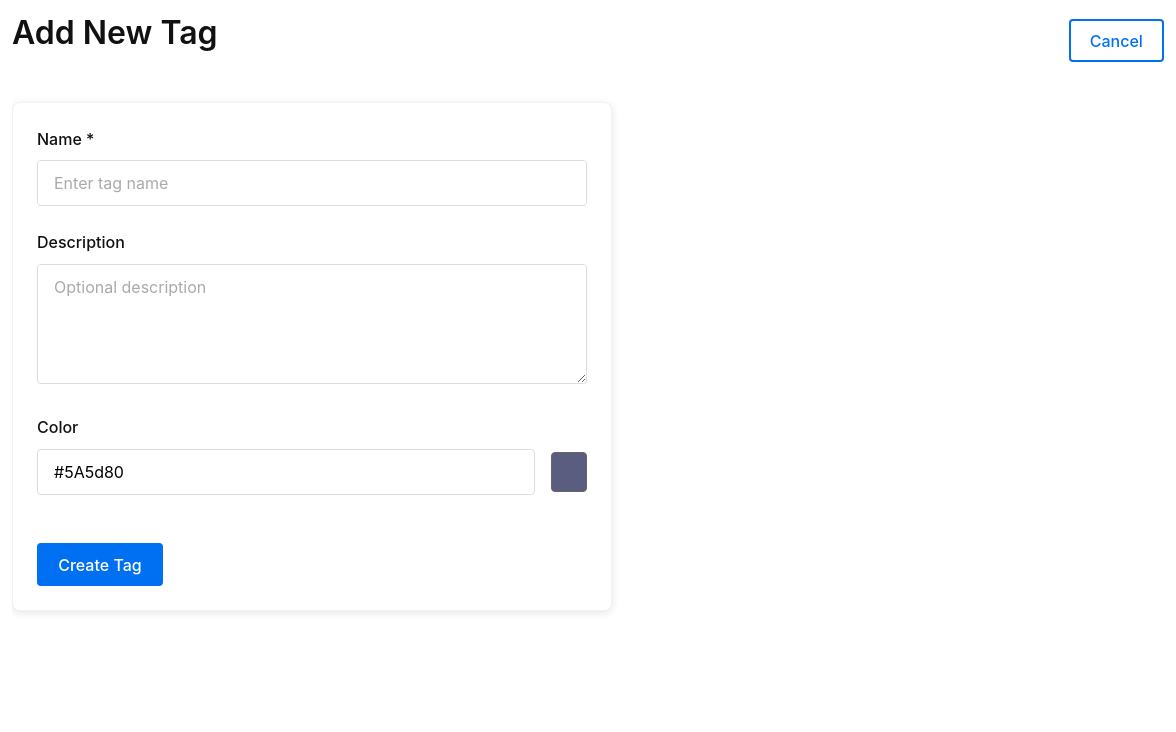
Test: TagEditorPage › Validation › shows error for invalid hex color
Type "invalid-color" into the field with placeholder "#5A5d80" at (286,472), box [37,449,535,495]
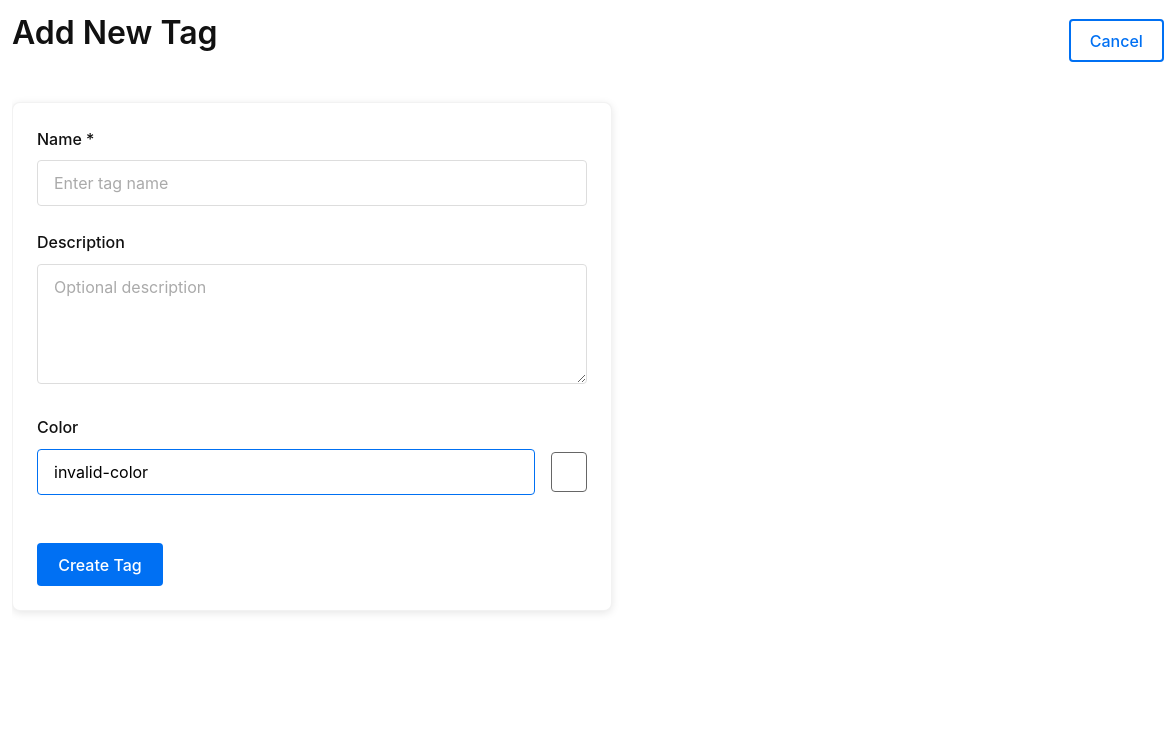
Click the button "Create Tag" at (100,565), box [37,543,163,586]
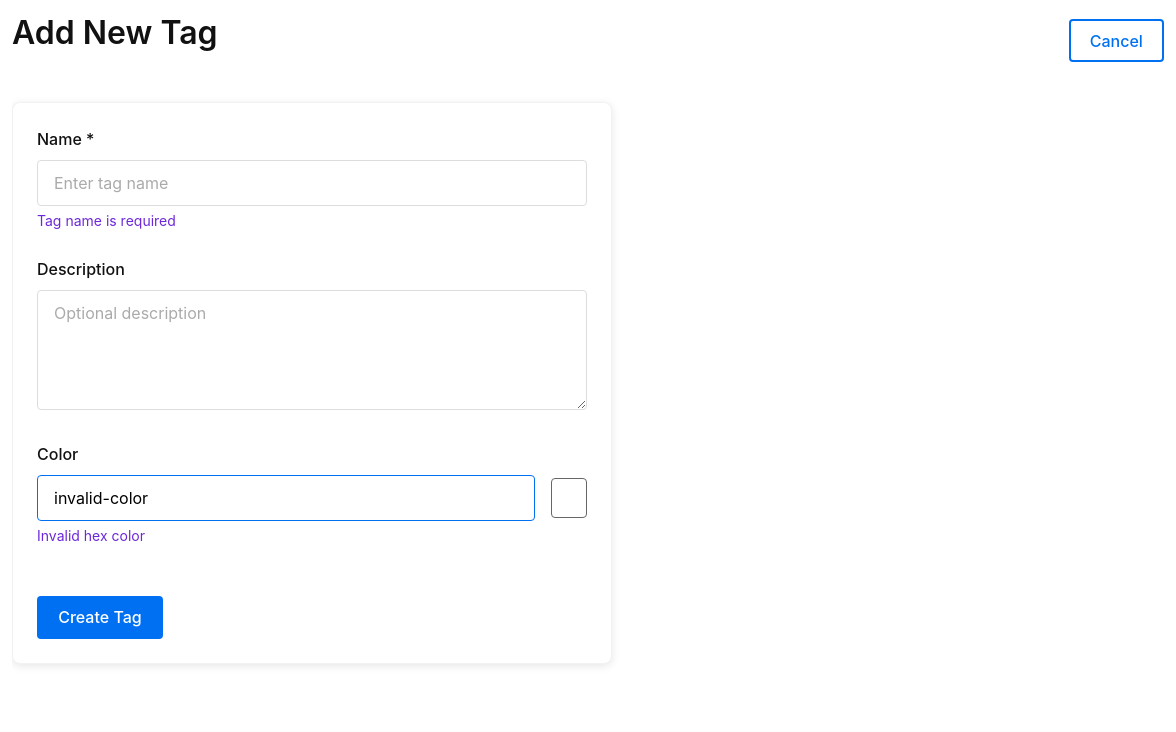
expect the text "Invalid hex color" is shown: met, box [37,527,145,544]
